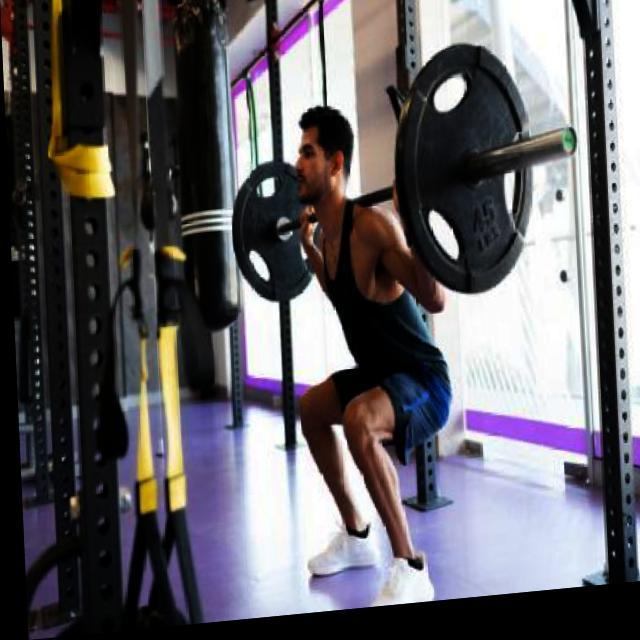barbell: (391, 40, 584, 312)
